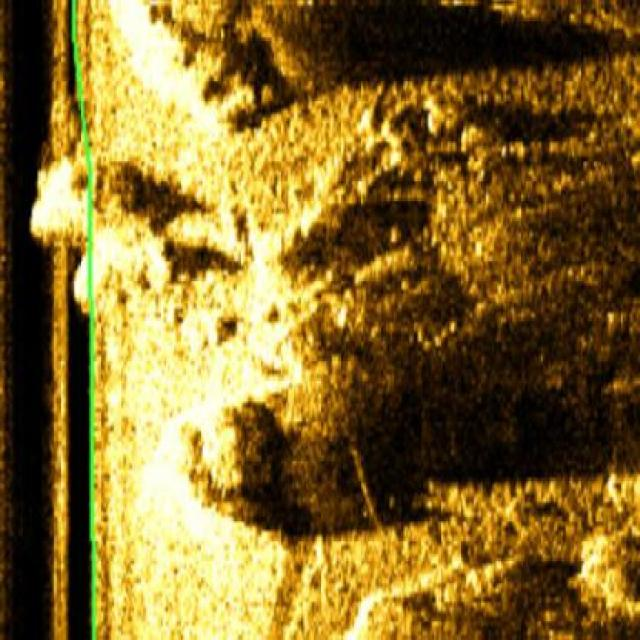bedrock group: (127, 0, 638, 638)
